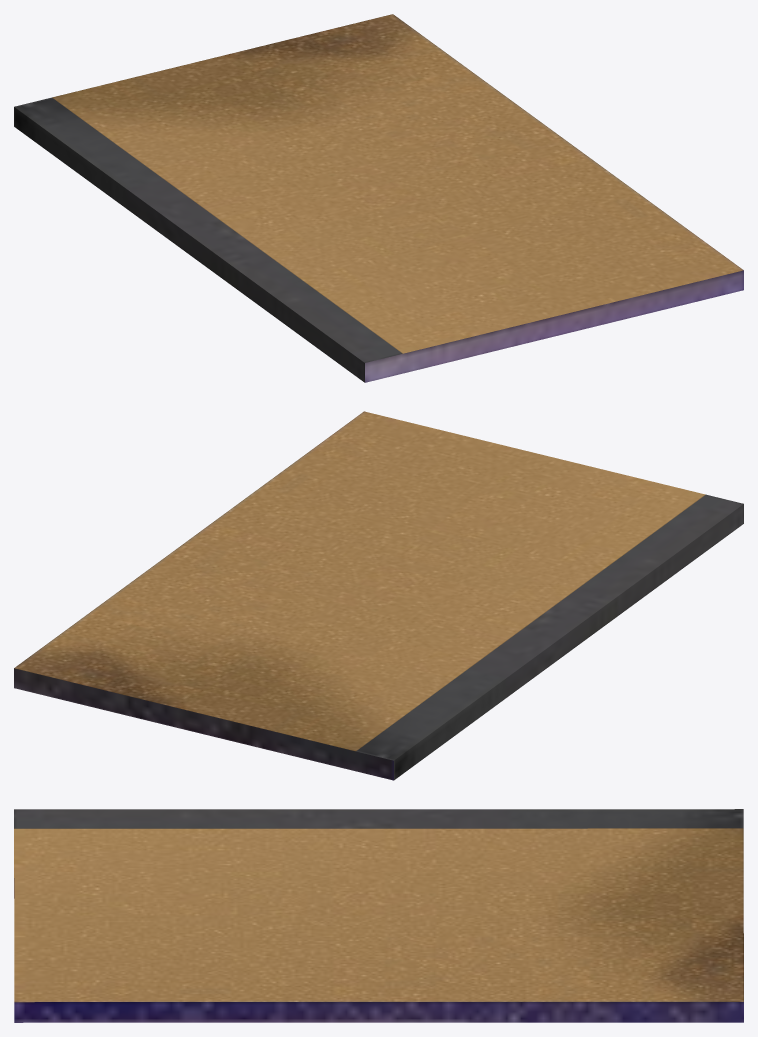
Rendered from notebook_top.glb.
The picture shows the model from 3 angles, top to bottom: view 1: azimuth 30°, elevation 25°; view 2: azimuth 150°, elevation 25°; view 3: azimuth 270°, elevation 25°; orthographic projection. The views are drawn at different scales.
Visible parts, largest first — view 1: notebook_top; view 2: notebook_top; view 3: notebook_top.
Boxes of the visible parts, x1,y1,x2,y2 form: notebook_top: [14, 14, 743, 382]; notebook_top: [14, 411, 743, 780]; notebook_top: [14, 809, 743, 1022].
Size of the model in its own units: 1.62 by 0.0811 by 2.6.
3 materials, 3 textured.
